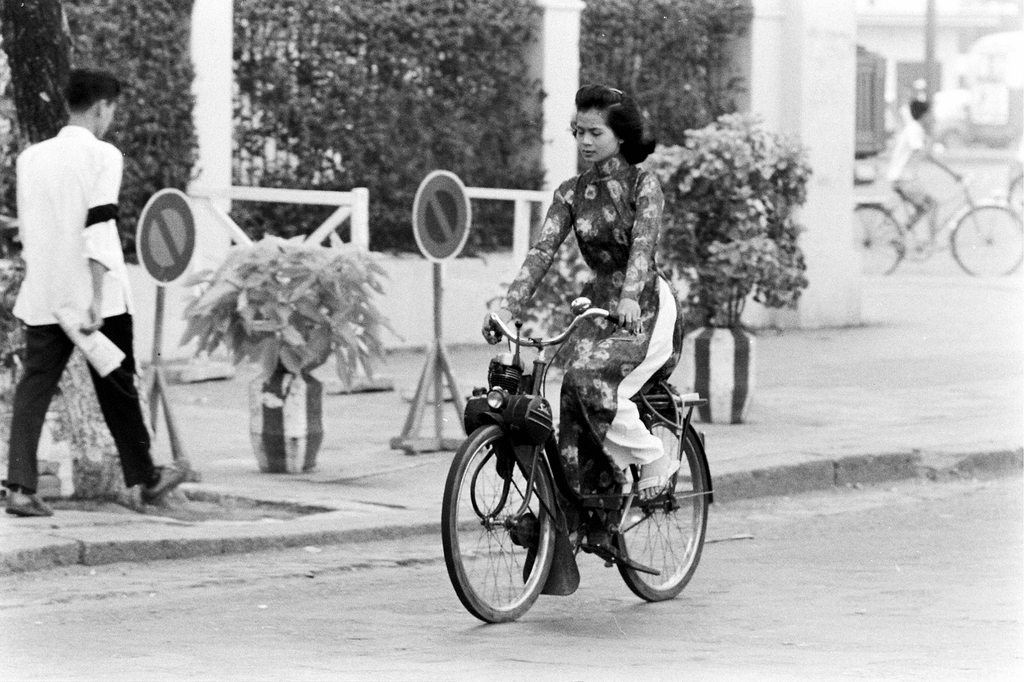Bike: (443, 307, 718, 619)
